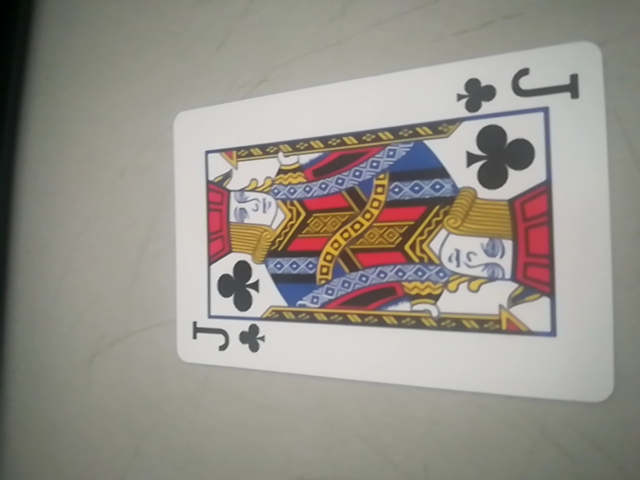mh j: (168, 45, 621, 404)
